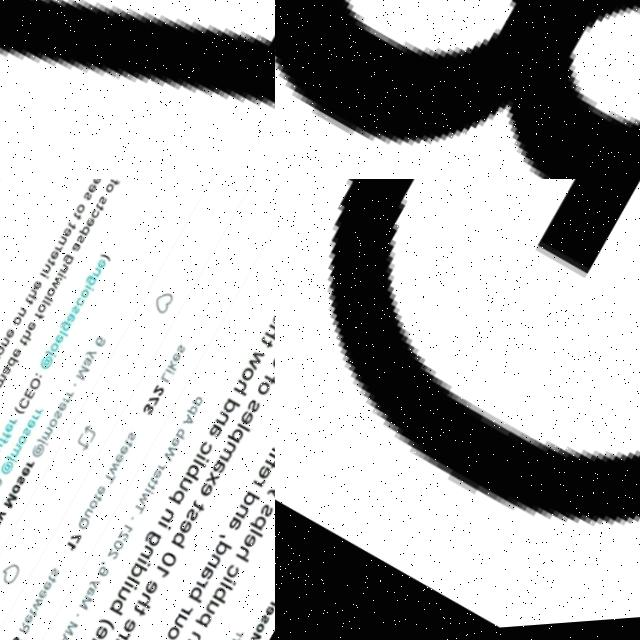2: (85, 569, 100, 584), (87, 340, 101, 353)
3: (59, 535, 73, 549), (140, 399, 152, 412)
8: (275, 0, 640, 179)
A: (216, 522, 234, 541), (201, 466, 218, 483), (198, 429, 215, 446), (189, 572, 204, 588), (174, 420, 187, 434), (59, 316, 72, 329), (75, 361, 87, 373), (74, 591, 85, 603), (66, 246, 77, 258), (0, 368, 5, 379), (47, 637, 59, 640)
B: (97, 602, 119, 624), (200, 592, 220, 612), (176, 591, 196, 611), (160, 536, 180, 556), (176, 468, 196, 488), (166, 433, 179, 446)
C: (188, 446, 206, 464), (213, 570, 230, 587), (9, 400, 24, 415), (262, 361, 275, 378), (69, 302, 81, 313), (85, 213, 96, 225)
D: (0, 0, 275, 179), (202, 546, 223, 566), (213, 404, 234, 424), (118, 567, 138, 586), (232, 498, 251, 517), (0, 359, 12, 373)
E: (229, 415, 248, 434), (131, 583, 149, 602), (246, 471, 263, 488), (232, 540, 248, 557), (109, 623, 125, 640), (167, 525, 183, 542), (189, 488, 205, 505), (263, 318, 275, 336), (81, 628, 97, 640), (30, 584, 43, 597), (81, 187, 94, 200), (11, 616, 23, 629), (3, 351, 16, 363), (44, 253, 56, 266), (16, 392, 29, 404), (252, 612, 264, 624), (161, 443, 173, 455), (26, 592, 38, 604), (17, 422, 29, 434), (47, 338, 59, 350), (90, 263, 102, 275), (110, 449, 121, 461), (164, 358, 175, 370), (11, 470, 23, 481), (20, 325, 31, 337), (27, 284, 38, 296), (88, 179, 99, 191), (0, 330, 10, 343), (268, 433, 275, 451), (143, 474, 154, 485), (87, 490, 98, 501), (105, 458, 116, 469), (80, 222, 91, 233), (57, 232, 68, 243), (50, 406, 59, 417), (0, 425, 7, 437)
F: (254, 463, 272, 480), (254, 379, 272, 395), (27, 315, 39, 326), (106, 183, 116, 192), (0, 433, 3, 444)
G: (275, 179, 640, 640), (132, 535, 152, 555), (56, 258, 70, 272), (53, 324, 66, 337), (79, 279, 92, 292)
H: (125, 596, 145, 616), (225, 552, 244, 571), (225, 386, 244, 405), (257, 330, 275, 350), (15, 333, 28, 346), (23, 293, 35, 304)
I: (126, 562, 141, 574), (211, 583, 225, 594), (259, 460, 273, 471), (148, 526, 162, 537), (187, 460, 200, 471), (114, 586, 127, 596), (79, 289, 89, 298), (34, 275, 43, 284), (52, 276, 62, 284), (135, 493, 144, 501), (158, 374, 167, 382)
J: (29, 441, 41, 451), (39, 354, 51, 364), (0, 457, 9, 468)
K: (159, 366, 172, 378)
L: (152, 377, 165, 390), (228, 430, 242, 441), (184, 464, 198, 475), (209, 588, 222, 599), (240, 535, 253, 546), (116, 581, 129, 592), (53, 334, 62, 342), (37, 300, 47, 307), (36, 304, 44, 310)
M: (209, 447, 229, 470), (67, 599, 83, 617), (68, 369, 84, 387), (51, 625, 66, 640), (32, 430, 46, 446), (1, 447, 15, 462), (0, 495, 9, 513)
N: (224, 511, 241, 528), (195, 560, 212, 576), (129, 549, 145, 566), (207, 417, 223, 434), (151, 514, 166, 529), (262, 446, 275, 463), (86, 272, 98, 284), (36, 268, 48, 280), (53, 267, 65, 279), (11, 311, 22, 322), (53, 240, 63, 252), (0, 340, 4, 351)
O: (231, 373, 248, 391), (247, 387, 264, 405), (21, 380, 36, 396), (265, 481, 275, 499), (153, 630, 170, 640), (30, 306, 43, 319), (8, 437, 20, 451), (39, 421, 51, 434), (73, 293, 85, 306), (242, 628, 254, 640), (1, 487, 13, 499), (39, 291, 51, 303), (78, 504, 89, 516), (43, 347, 54, 359), (6, 319, 17, 331), (71, 208, 82, 220), (101, 188, 111, 200), (269, 349, 275, 367)
P: (157, 492, 177, 512), (238, 519, 258, 539), (182, 616, 201, 635), (218, 433, 237, 452), (74, 229, 87, 242), (178, 410, 191, 422), (184, 401, 196, 414)
Q: (66, 520, 81, 536)
R: (169, 610, 183, 623), (185, 583, 198, 596), (243, 483, 257, 495), (7, 625, 19, 638), (16, 463, 26, 473), (49, 248, 59, 257), (105, 634, 119, 640), (258, 606, 267, 615), (149, 468, 158, 477), (1, 420, 10, 429), (55, 400, 64, 408), (27, 411, 36, 419), (59, 394, 67, 402), (23, 417, 31, 425), (223, 636, 232, 640)
S: (238, 404, 255, 421), (249, 510, 265, 527), (175, 514, 190, 529), (168, 350, 180, 362), (248, 621, 259, 633), (39, 570, 50, 582), (118, 436, 129, 448), (13, 430, 24, 442), (70, 239, 81, 251), (94, 200, 105, 212), (78, 196, 90, 207), (45, 414, 56, 425), (64, 310, 75, 321), (7, 479, 17, 490)
T: (181, 505, 198, 520), (120, 609, 136, 624), (252, 343, 268, 358), (123, 507, 136, 520), (94, 477, 107, 490), (61, 226, 73, 236), (83, 498, 94, 508), (90, 208, 101, 218), (136, 488, 146, 498), (36, 579, 47, 588), (18, 301, 29, 310), (141, 482, 150, 492), (17, 612, 27, 621), (12, 342, 22, 351), (42, 262, 51, 272), (69, 216, 78, 226), (116, 445, 125, 454)
U: (105, 589, 122, 606), (193, 606, 209, 623), (168, 483, 184, 500), (162, 619, 177, 635), (74, 512, 84, 523)
W: (238, 356, 258, 378), (152, 450, 169, 469), (127, 496, 142, 513), (18, 600, 33, 617), (97, 464, 112, 481), (45, 279, 59, 294)
X: (195, 477, 211, 494)
Y: (255, 490, 275, 510), (77, 352, 91, 366), (77, 582, 90, 595), (268, 304, 275, 324)
